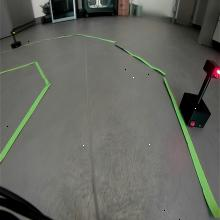red: (203, 58, 220, 78)
